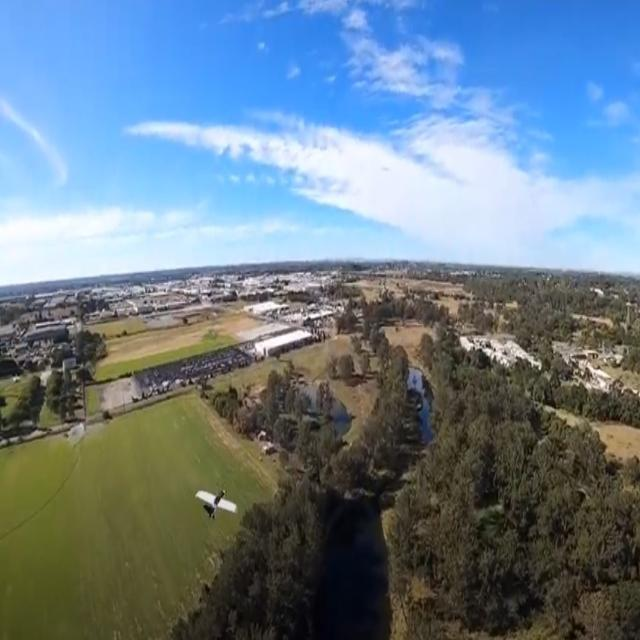iha: (194, 488, 238, 522)
